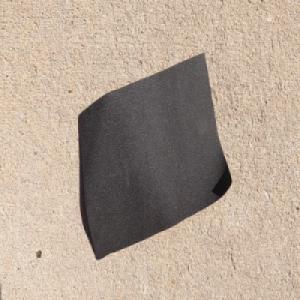PaintChip: (76, 49, 232, 261)
